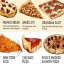pizza: (20, 1, 43, 19)
